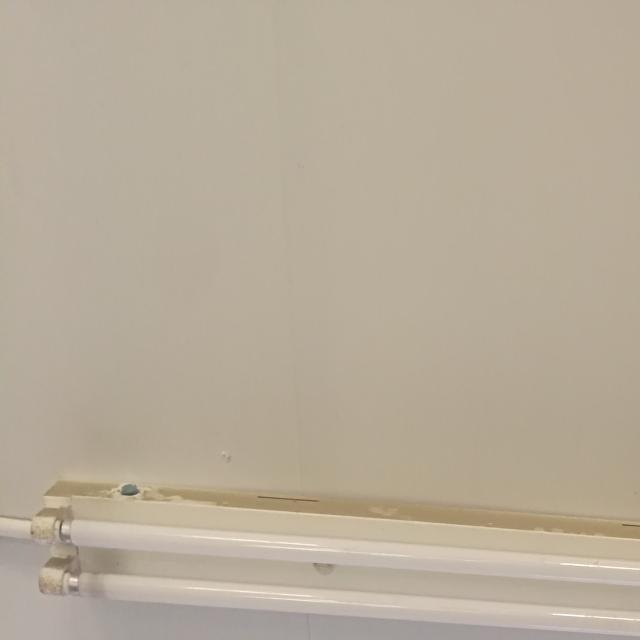fluorescent tube: (6, 443, 640, 640)
